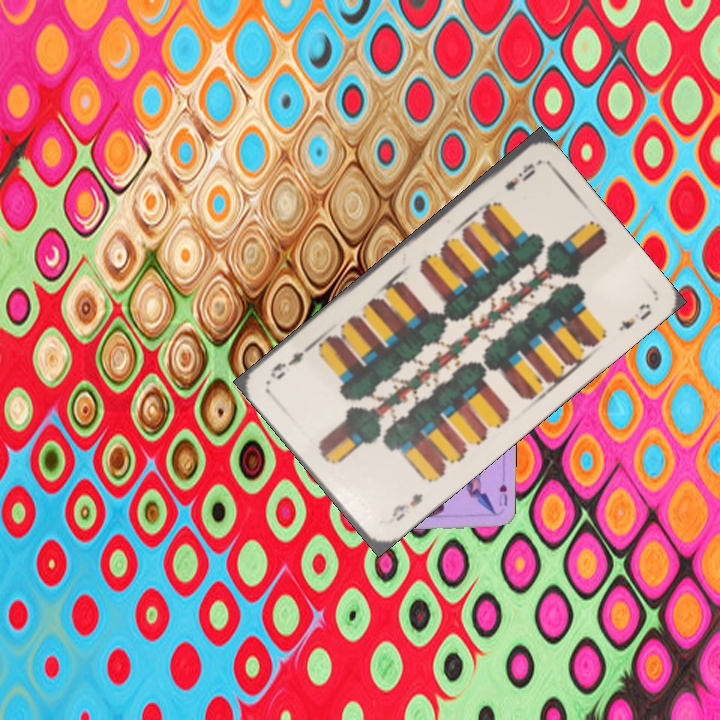E9: (500, 159, 538, 194), (387, 489, 425, 524)
HU: (494, 480, 510, 509)
